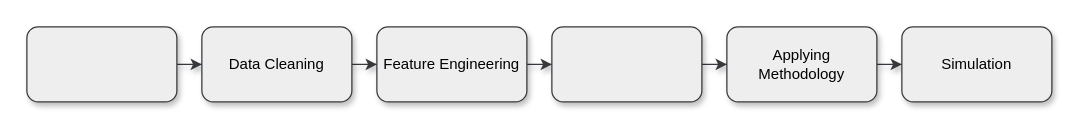
Image size: 1081x133. Some labels were removed from this diagram. Each missing label, with the centre of its shape:
"Data Analysis" belongs at (627,66).
"Data Gathering" belongs at (102,66).
